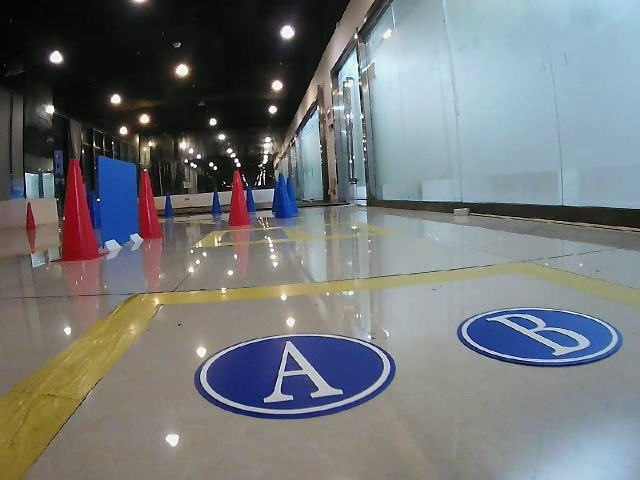A: (197, 333, 396, 415)
B: (460, 305, 619, 365)
